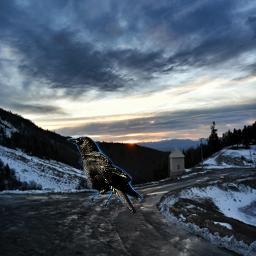Crow: (64, 135, 143, 215)
